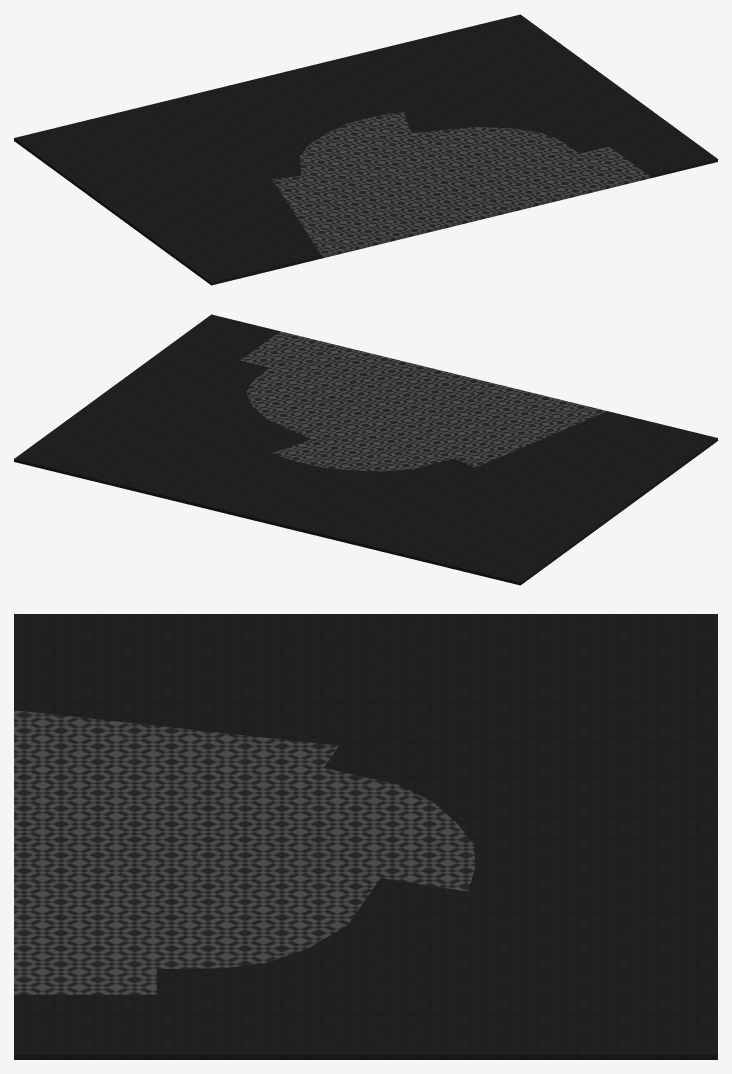
File: suelo_j4.fbx
3 renders of one model, top to bottom at view 1: azimuth 30°, elevation 25°; view 2: azimuth 150°, elevation 25°; view 3: azimuth 270°, elevation 25°, orthographic. The views are drawn at different scales.
Parts seen in each view (by area): view 1: Plane.006; view 2: Plane.006; view 3: Plane.006.
Boxes of the visible parts, box(x1,y1,x2,y2) form: Plane.006: box(14, 14, 717, 285); Plane.006: box(14, 314, 717, 585); Plane.006: box(14, 614, 717, 1059).
Bounding box in the file's own units: 24008 × 132 × 16211.
2 materials, 2 textured.
